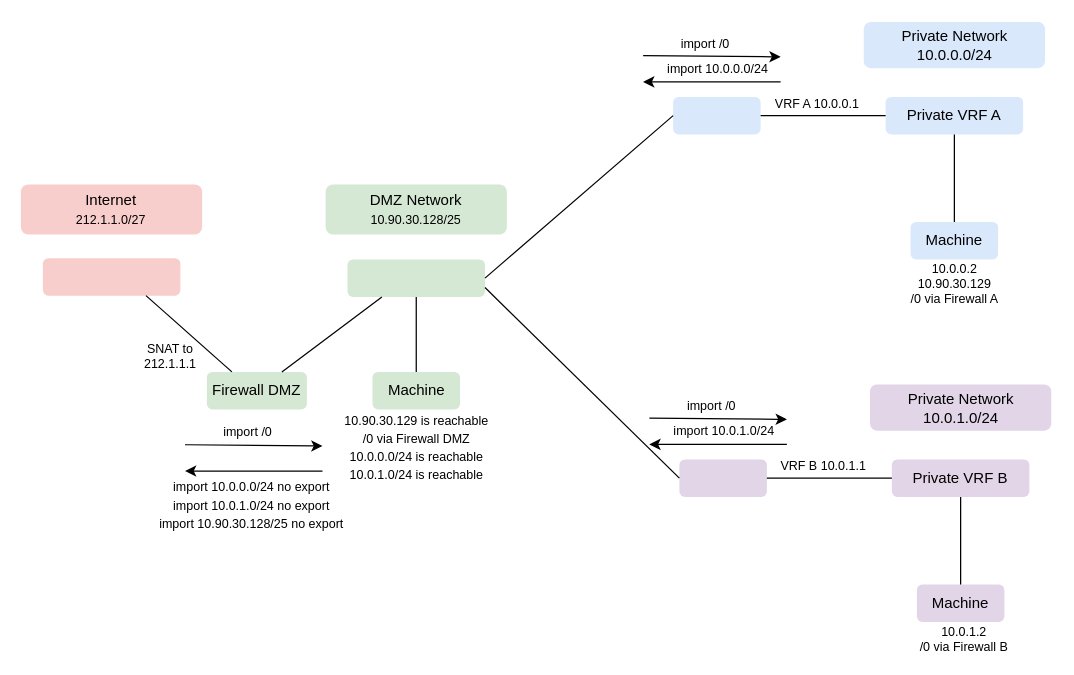
The diagram is 1074 pixels wide and 675 high, and some of its shapes have lost their labels. The centre of each missing label's shape, as x and y in pixels:
"DMZ VRF" belongs at pixel 415 277.
"Firewall A" belongs at pixel 716 115.
"Firewall B" belongs at pixel 722 477.
"Internet VRF" belongs at pixel 111 276.
